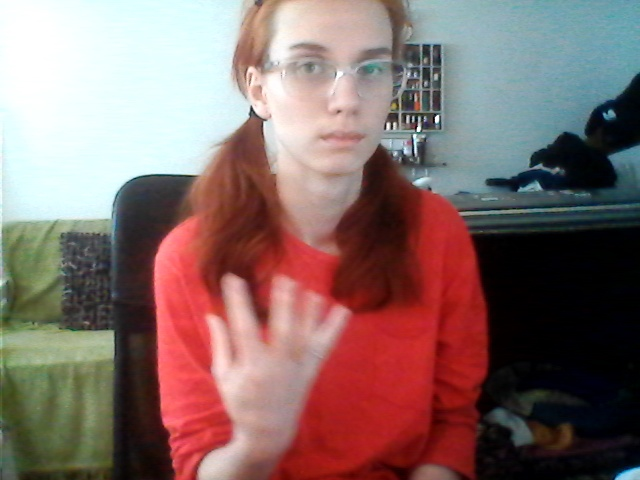kedy: (192, 269, 363, 430)
